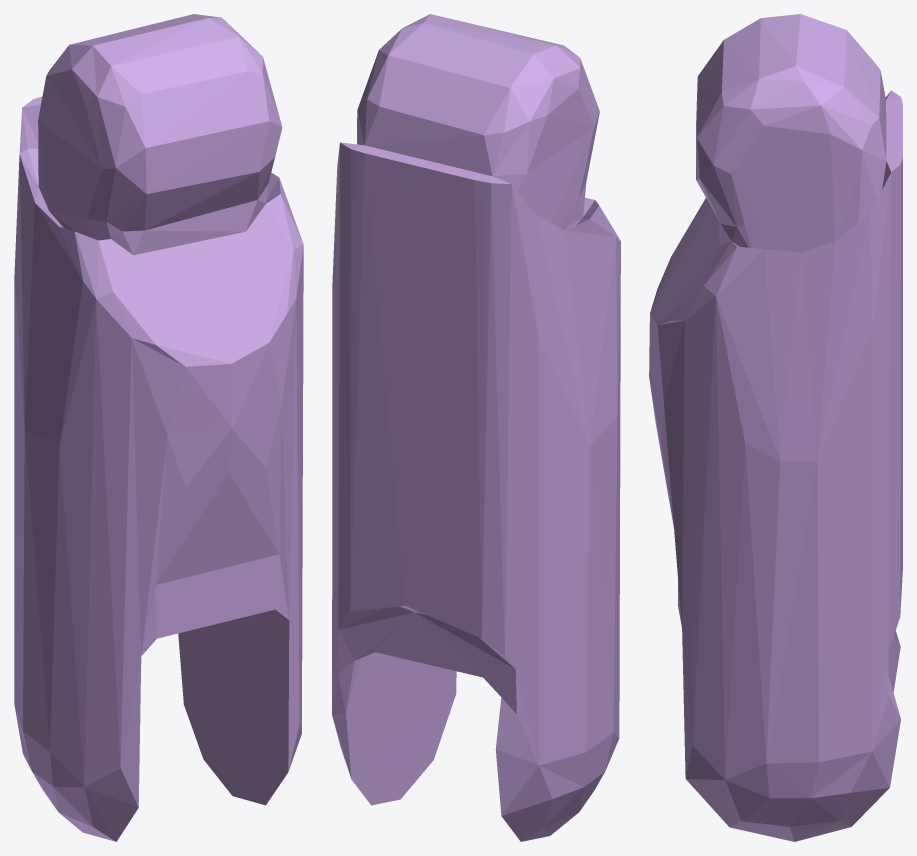
3 views of the same model, side by side, from view 1: azimuth 30°, elevation 25°; view 2: azimuth 150°, elevation 25°; view 3: azimuth 270°, elevation 25° (orthographic). The views are drawn at different scales.
Parts seen in each view (by area): view 1: proximal; view 2: proximal; view 3: proximal.
Boxes of the visible parts, box(x1,y1,x2,y2) form: proximal: box(14, 14, 303, 841); proximal: box(332, 14, 620, 841); proximal: box(649, 14, 902, 841).
Bounding box in the file's own units: 19.91 × 18.06 × 60.05.
